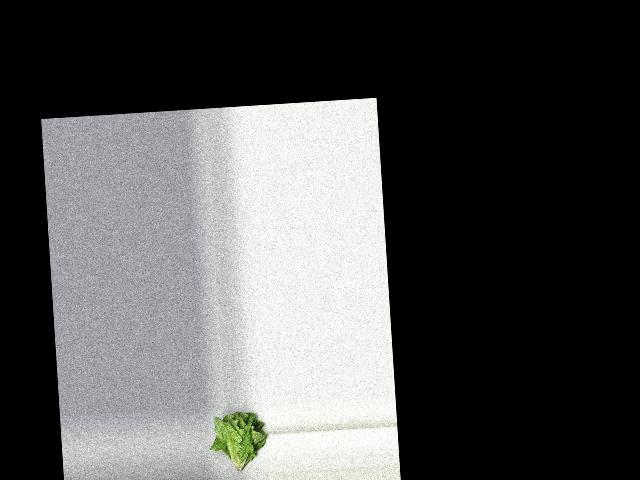lettuce: (213, 406, 268, 475)
